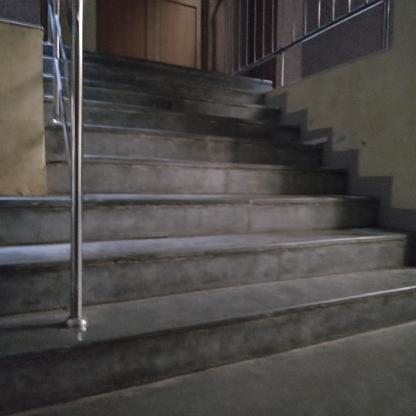stairs: (133, 203, 378, 389)
